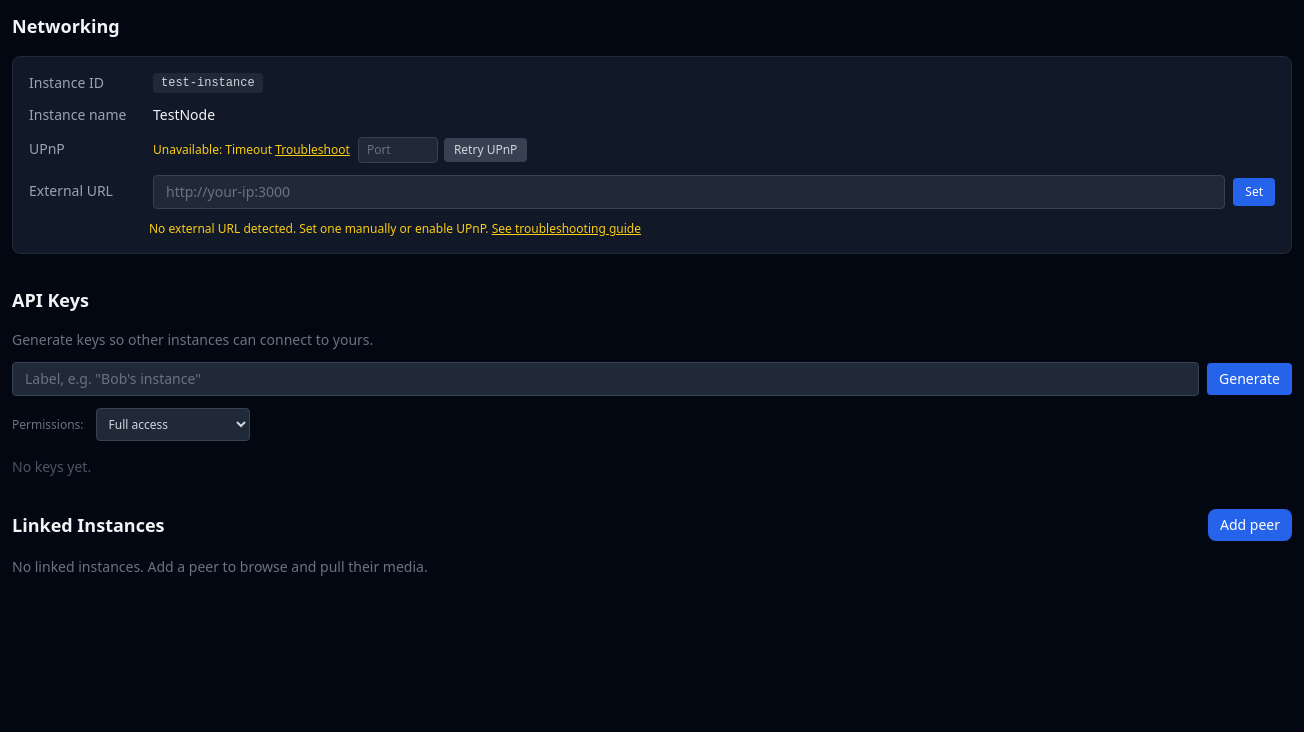
Test: Peers › UPnP retry › shows validation error when invalid port is entered
Type "99999" into the field with placeholder "Port". click: {"x": 398, "y": 150}
box: [358,137,438,163]
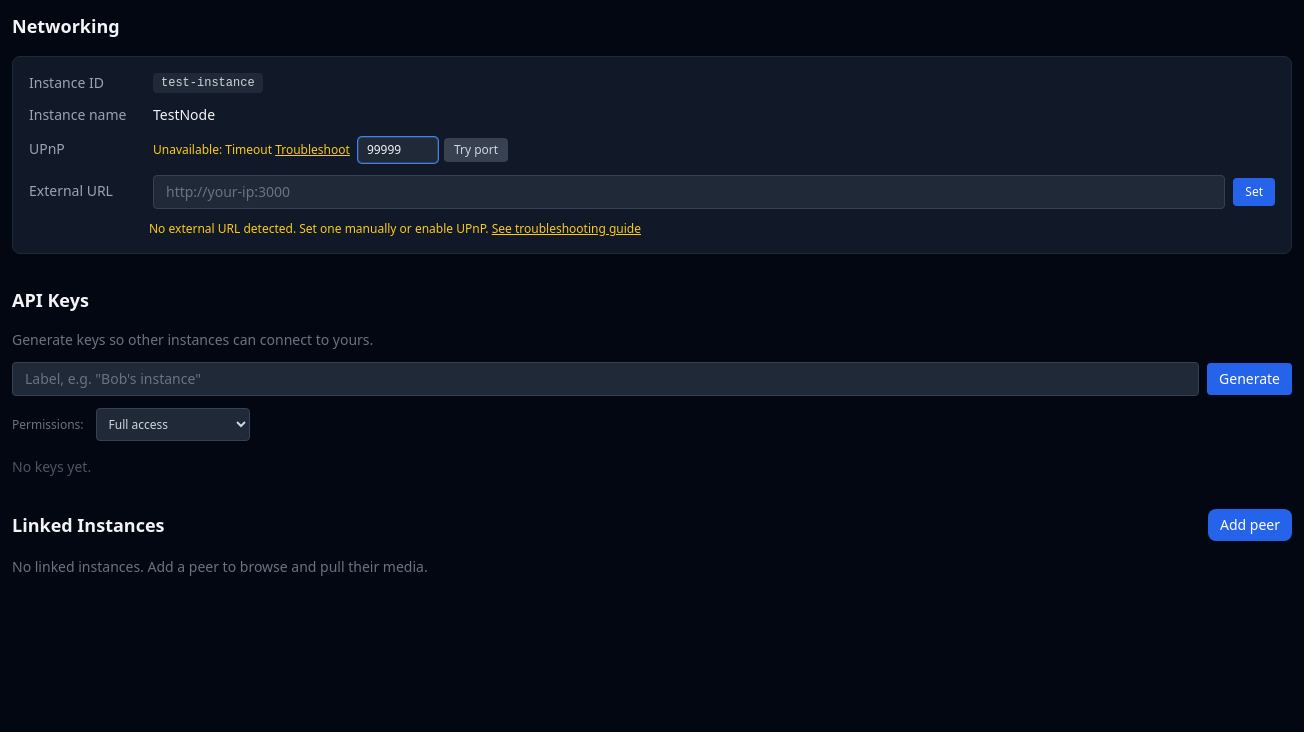
Click the button "Try port". click: {"x": 476, "y": 150}
box: [444,138,508,162]
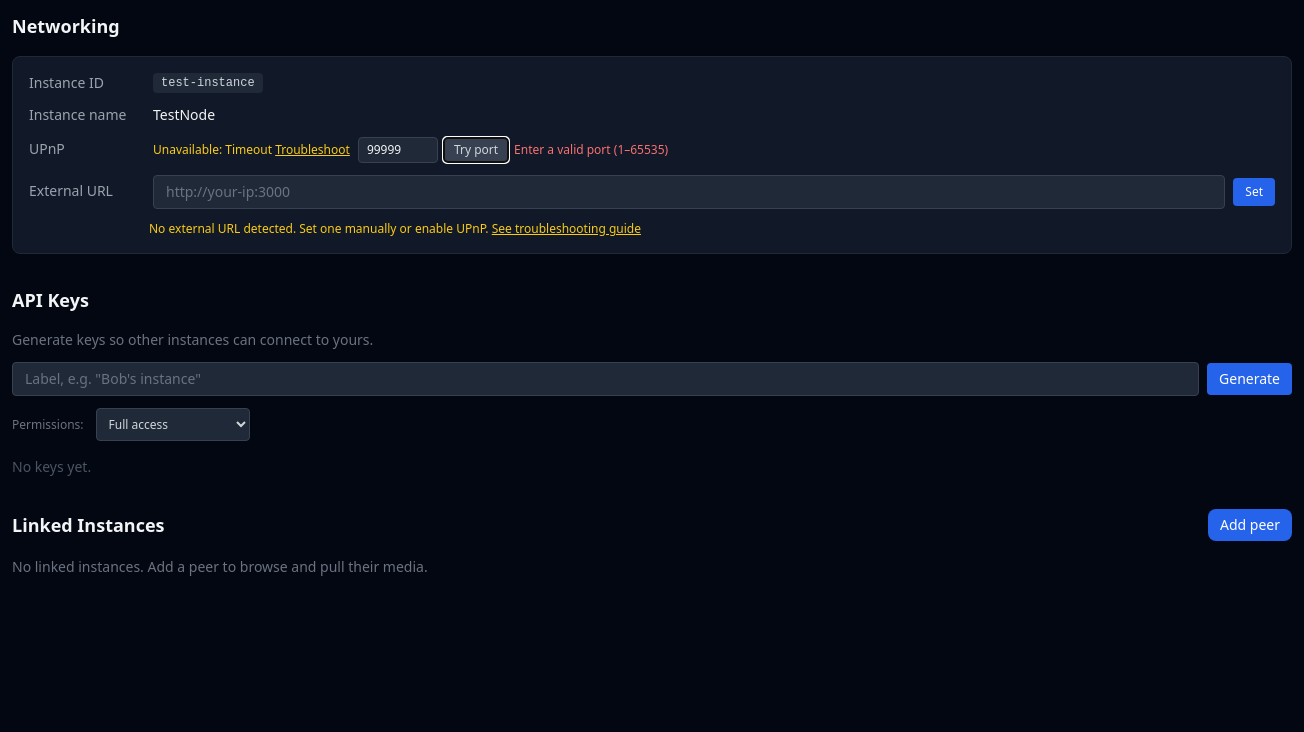
Expected: the text "Enter a valid port (1–65535)" is shown, [514,142,668,158]
